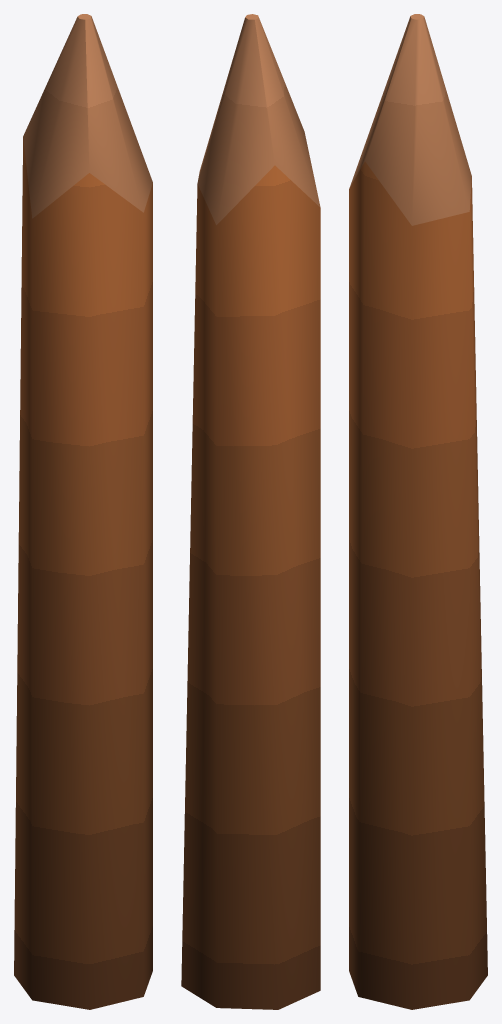
Rendered from stake.fbx.
The picture shows the model from 3 angles, left to right: view 1: azimuth 30°, elevation 25°; view 2: azimuth 150°, elevation 25°; view 3: azimuth 330°, elevation 25°; orthographic projection.
Visible parts, largest first — view 1: Cylinder.012; view 2: Cylinder.012; view 3: Cylinder.012.
Boxes of the visible parts, bbox=[...] form: Cylinder.012: bbox=[14, 14, 152, 1009]; Cylinder.012: bbox=[181, 14, 320, 1009]; Cylinder.012: bbox=[349, 14, 487, 1009].
Bounding box in the file's own units: 43.99 × 335 × 42.89.
